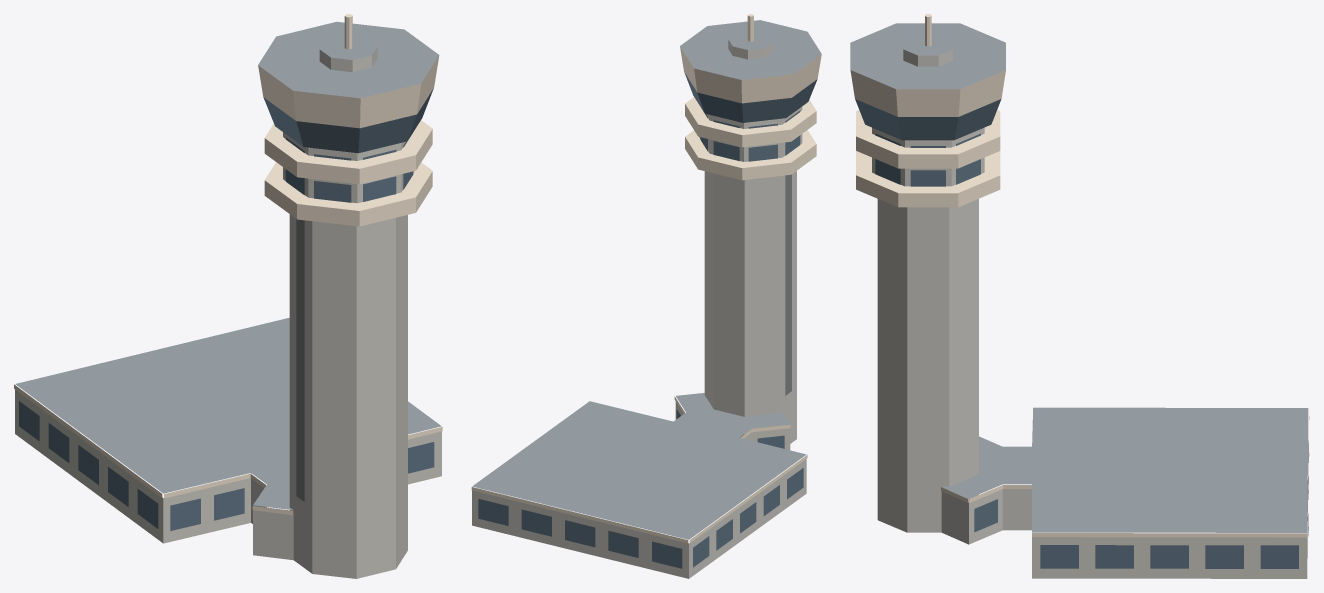
The model's file is dal-love-field-tower.glb.
3 views of the same model, side by side, from view 1: azimuth 30°, elevation 25°; view 2: azimuth 150°, elevation 25°; view 3: azimuth 270°, elevation 25° (orthographic). The views are drawn at different scales.
Parts seen in each view (by area): view 1: Dallas Love Field Air Traffic Control Tower; view 2: Dallas Love Field Air Traffic Control Tower; view 3: Dallas Love Field Air Traffic Control Tower.
Boxes of the visible parts, x1,y1,x2,y2 form: Dallas Love Field Air Traffic Control Tower: (14, 14, 442, 578); Dallas Love Field Air Traffic Control Tower: (471, 14, 821, 578); Dallas Love Field Air Traffic Control Tower: (850, 14, 1309, 578).
Size of the model in its own units: 26.5 by 48.5 by 40.7.
